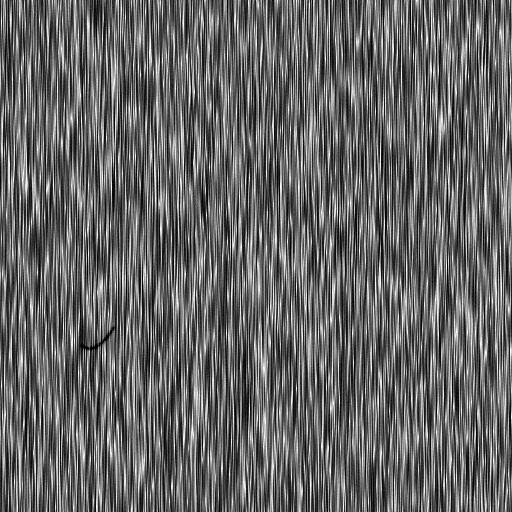DefectTypeC: (79, 325, 119, 354)
